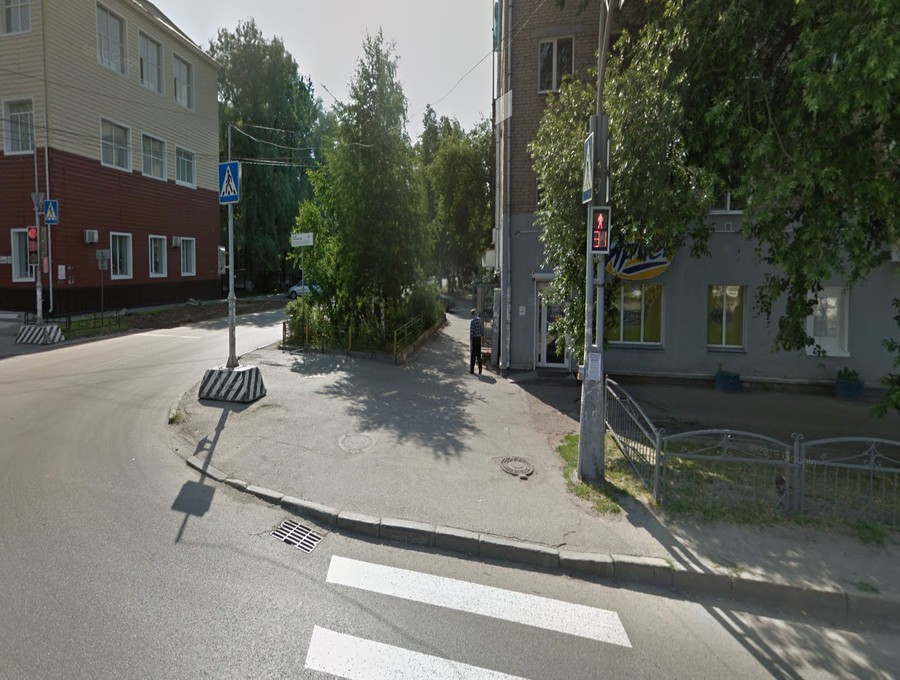Traffic Light-red: (591, 208, 612, 252)
